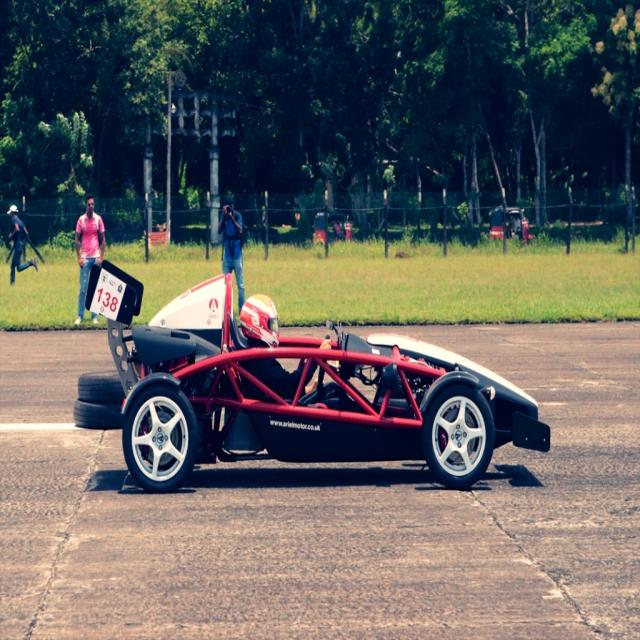car: (84, 277, 559, 493)
